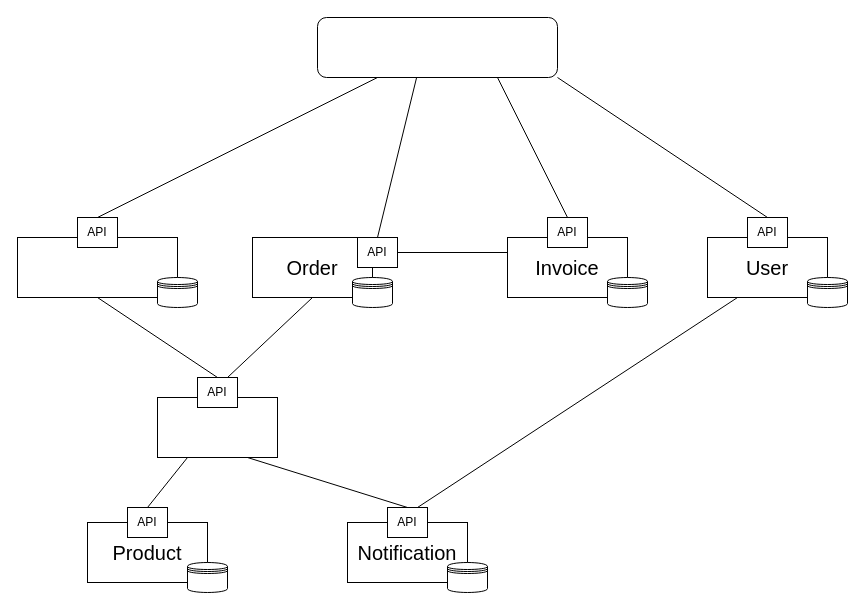
Image size: 865x610. Some labels were removed from this diagram. Here are the shapes that lost their labels. From the top down, the box of each, then its label:
(316, 16, 558, 78): API Gateway
(16, 236, 178, 298): merchandising
(156, 396, 278, 458): Catalog
